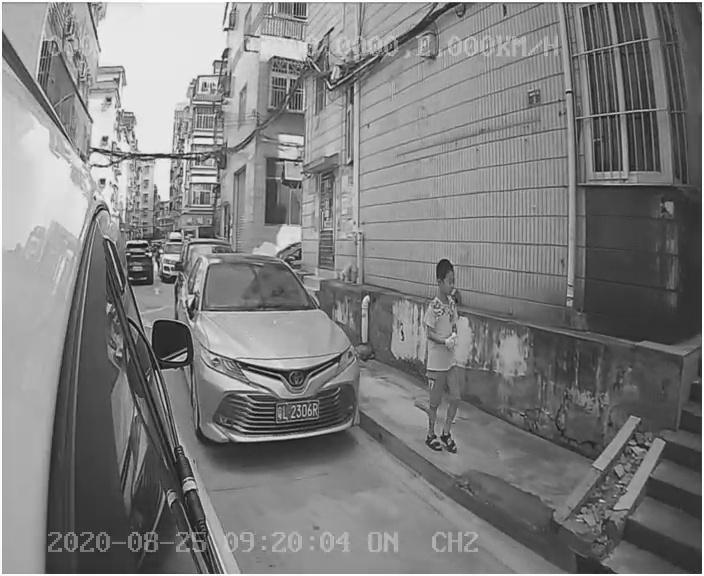person: (406, 257, 486, 463)
